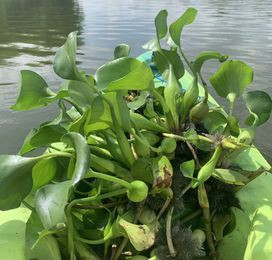water_hyacinth: (0, 8, 272, 260)
